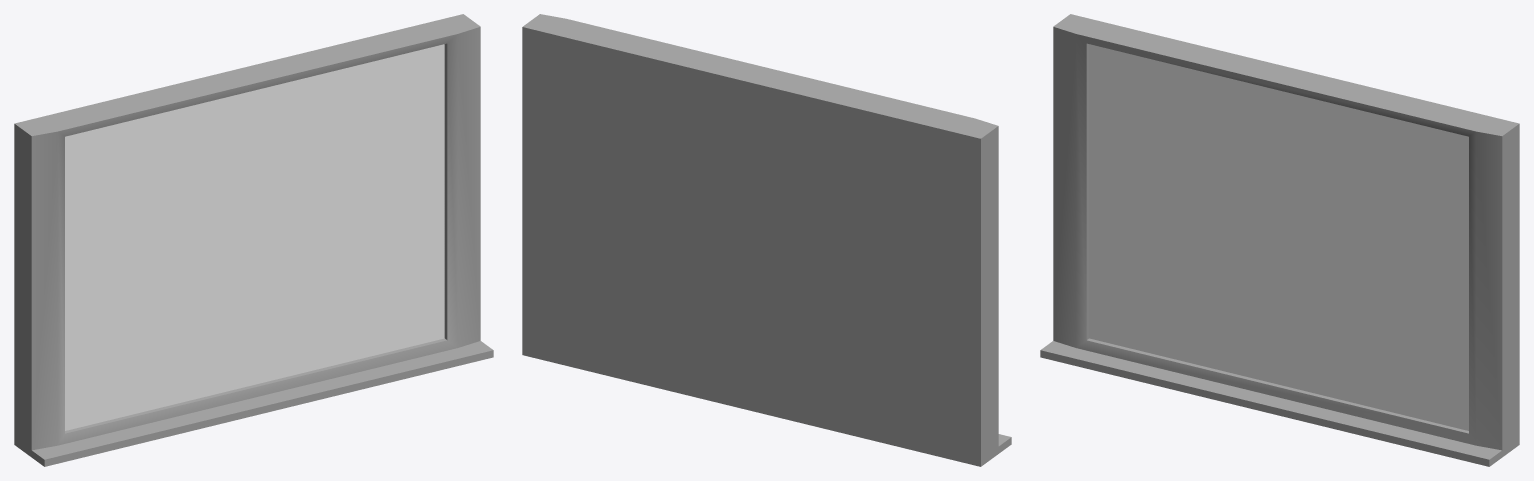
Rendered from Whiteboard.fbx.
3 renders of one model, left to right at view 1: azimuth 30°, elevation 25°; view 2: azimuth 150°, elevation 25°; view 3: azimuth 330°, elevation 25°, orthographic. The views are drawn at different scales.
Visible parts, largest first — view 1: Whiteboard; view 2: Whiteboard; view 3: Whiteboard.
Part boxes in pixels (x1=…): Whiteboard: x1=14, y1=14, x2=493, y2=466; Whiteboard: x1=522, y1=14, x2=1011, y2=466; Whiteboard: x1=1040, y1=14, x2=1519, y2=466.
Size of the model in its own units: 4.49 by 3.13 by 0.5217.
